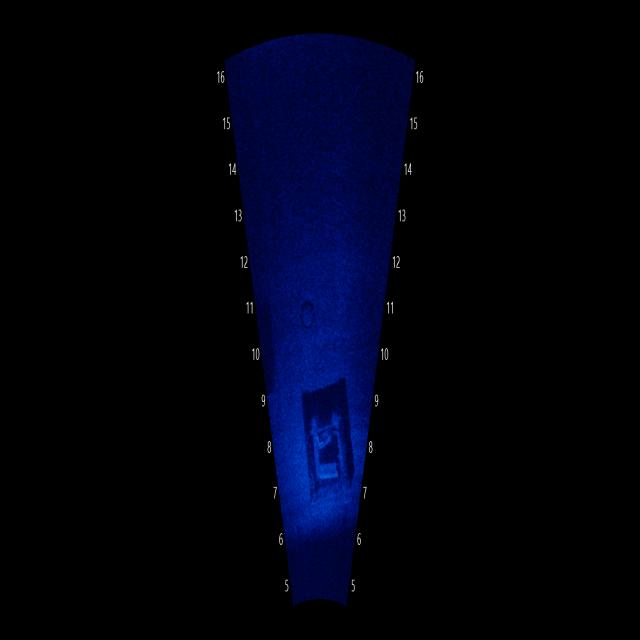square: (298, 374, 359, 522), (257, 283, 283, 399)
